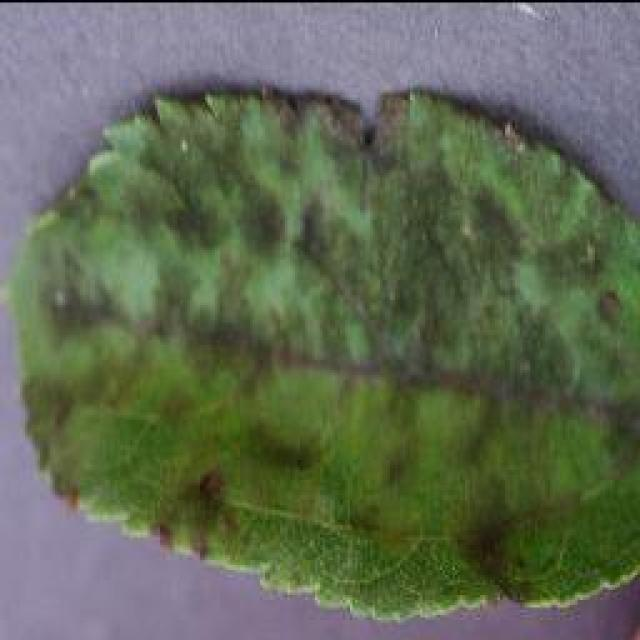apple scab disease: (5, 78, 637, 622)
